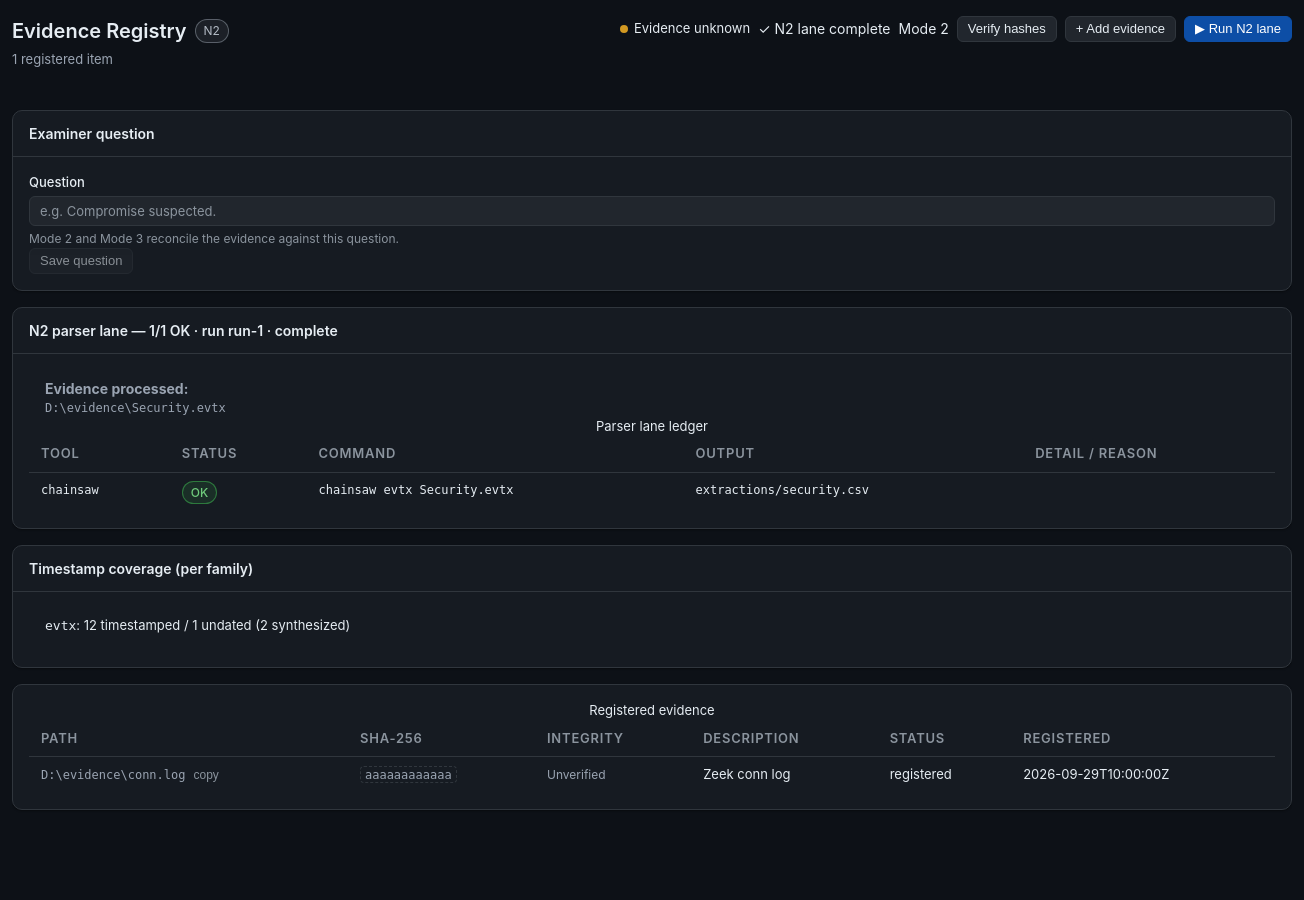
Scenario: Evidence (migrated) › refuses the N2 lane for Mode 2/3 with no examiner question
The image size is (1304, 900).
Expected: the text "chainsaw" is shown, [29,472,170,512]
Click the button "▶ Run N2 lane".
click(1238, 29)  # box [1184,16,1292,42]
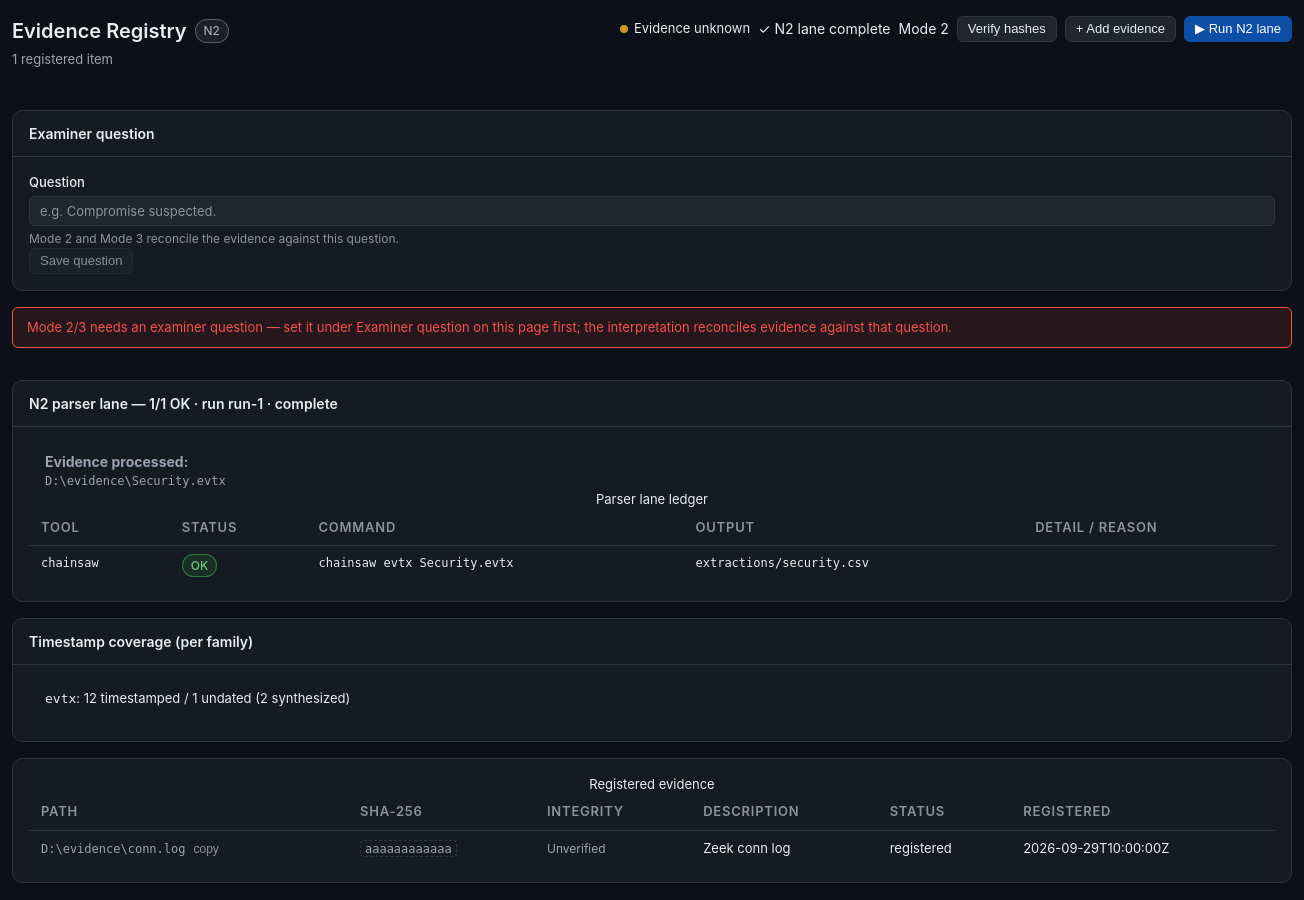
Expected: the message shows "needs an examiner question", [27,319,952,335]
